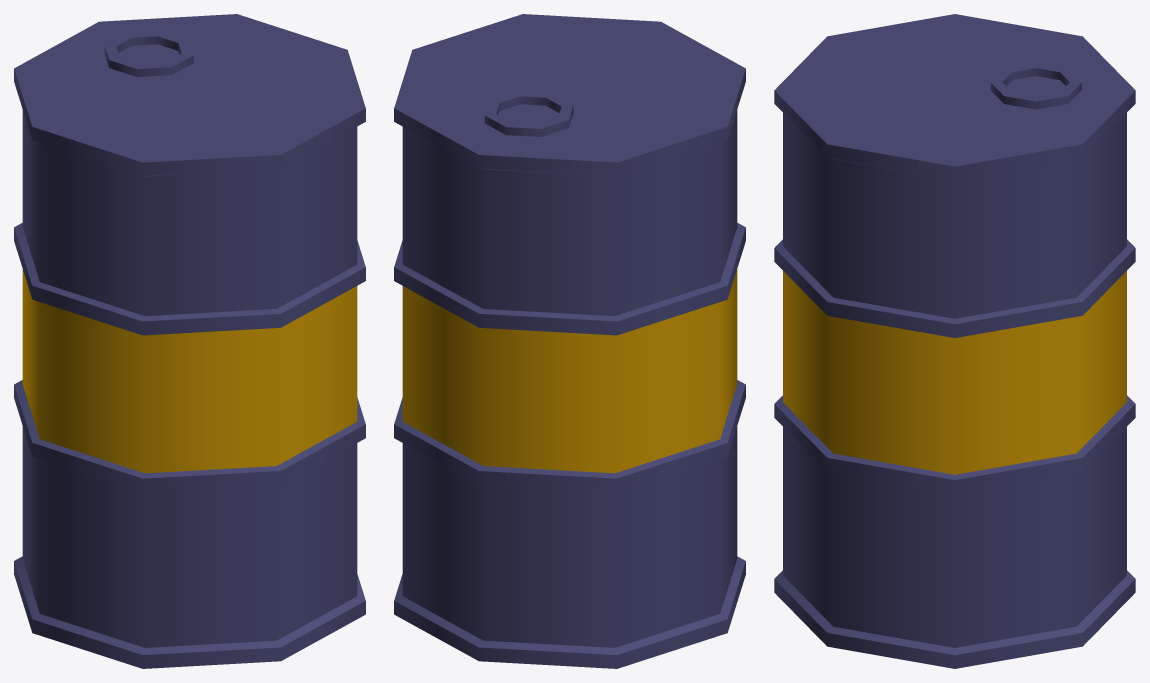
The model's file is drumcan.fbx.
3 renders of one model, left to right at view 1: azimuth 30°, elevation 25°; view 2: azimuth 150°, elevation 25°; view 3: azimuth 270°, elevation 25°, orthographic.
Visible parts, largest first — view 1: Circle.002; view 2: Circle.002; view 3: Circle.002.
Boxes of the visible parts, bbox=[...] form: Circle.002: bbox=[14, 14, 365, 668]; Circle.002: bbox=[394, 14, 745, 668]; Circle.002: bbox=[774, 14, 1135, 668].
Size of the model in its own units: 94.5 by 147 by 94.5.
